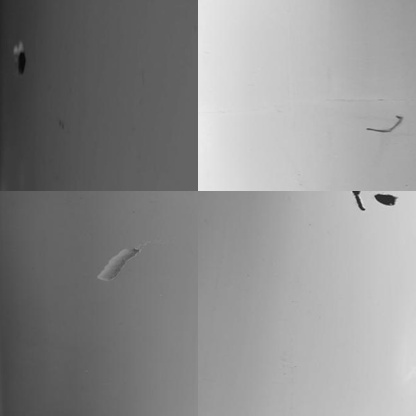fengxi: (364, 111, 404, 134), (349, 189, 365, 213)
kongdong: (10, 43, 33, 81), (374, 191, 401, 210)
sunshang: (97, 242, 141, 282)
